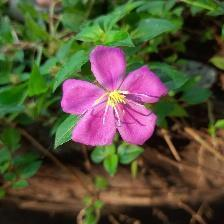malabar melastome: (61, 46, 168, 149)
